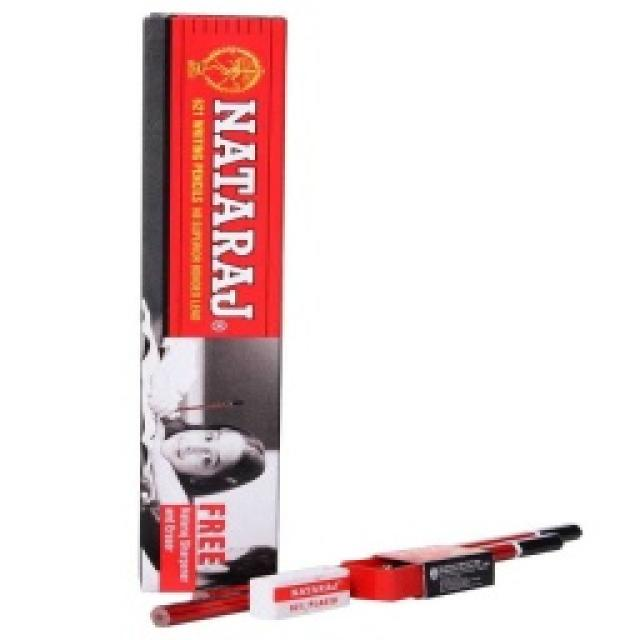pencil: (135, 10, 287, 598)
